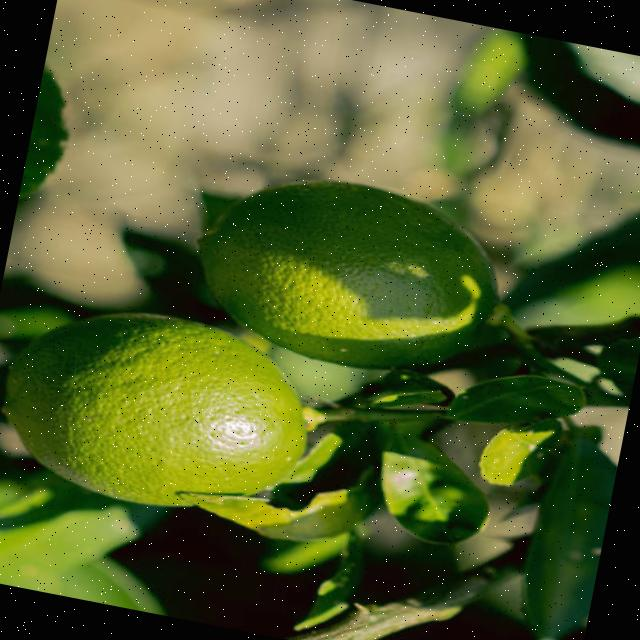Unripe: (175, 156, 518, 394), (0, 287, 326, 534)
